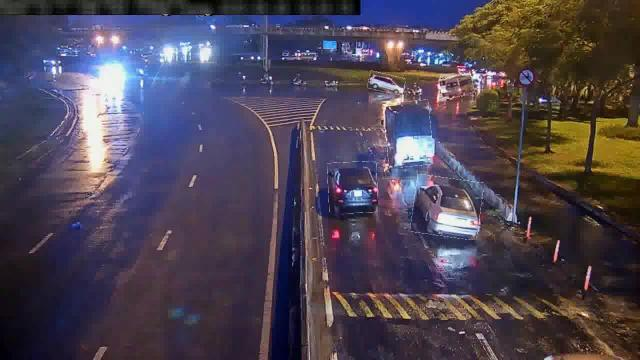Bus: (440, 74, 474, 98)
Car: (412, 177, 482, 239), (328, 162, 378, 214), (368, 72, 404, 94)
Truck: (384, 101, 432, 167)
